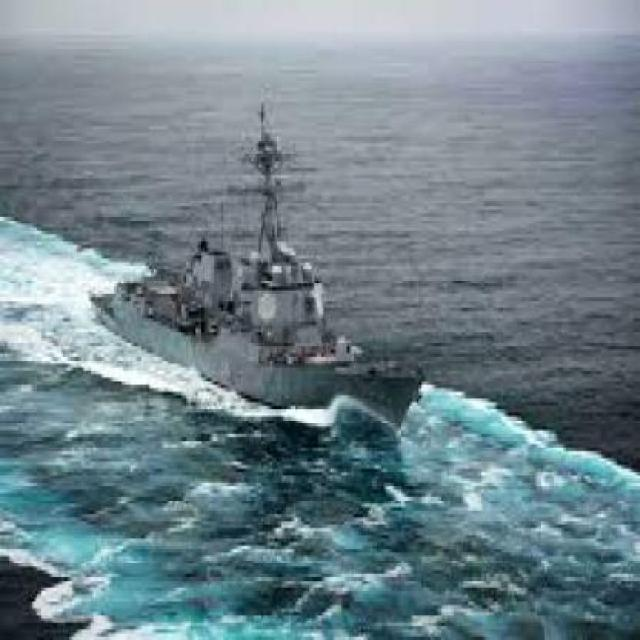warship2: (74, 82, 451, 480)
